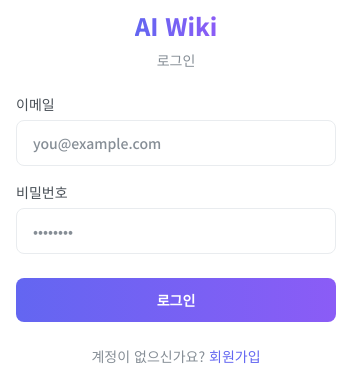
Scenario: AuthForm 컴포넌트 › login 모드 › 제출 중에는 버튼이 비활성화된다
Step 1. Type "test@example.com" into the field with placeholder "you@example.com" → coordinates (176, 143), box [16, 120, 336, 166]
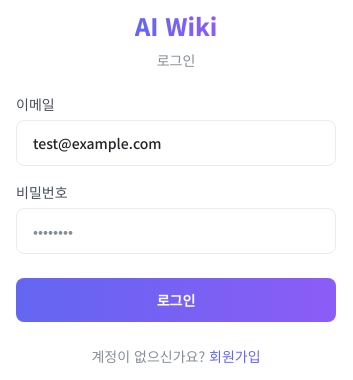
Step 2. Type "password123" into the password field with placeholder "••••••••" → coordinates (176, 231), box [16, 208, 336, 254]
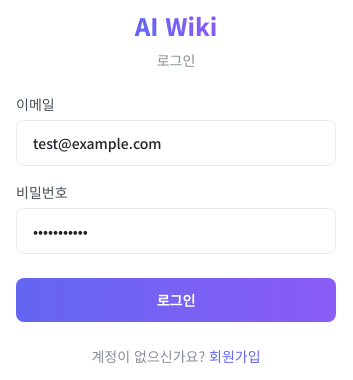
Step 3. Submit the form "로그인", box [16, 94, 336, 322]
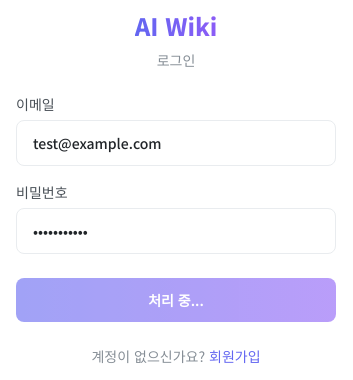
expect the button is disabled: met, box [16, 278, 336, 322]
expect the button reads "처리 중...": met, box [16, 278, 336, 322]
